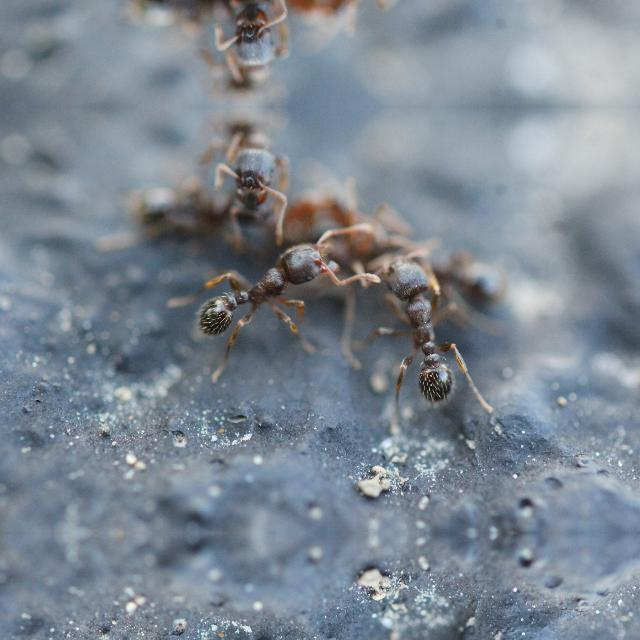Tetramorium: (192, 235, 380, 359), (363, 252, 475, 408)
